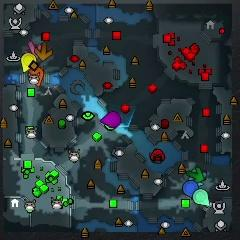p1: (183, 180, 198, 198)
p2: (193, 189, 210, 208)
p3: (101, 111, 121, 127)
p4: (21, 52, 36, 72)
p5: (29, 67, 44, 85)
x1: (24, 41, 41, 57)
x3: (189, 168, 207, 186)
x4: (186, 168, 204, 181)
x5: (34, 41, 52, 60)
